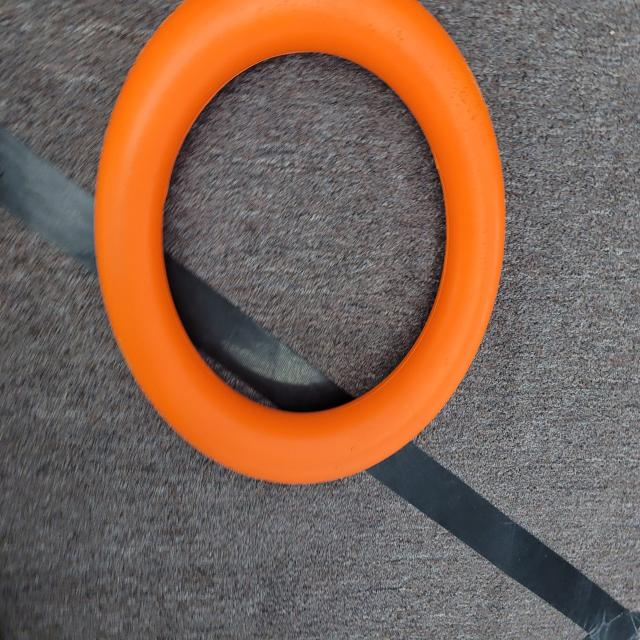note: (58, 0, 532, 505)
